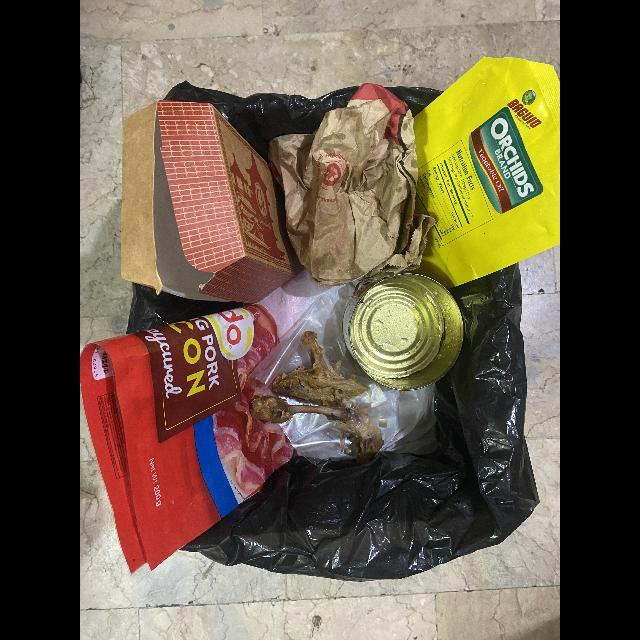aluminum: (343, 274, 464, 390)
cardboard: (121, 100, 295, 304)
food_wrapper: (80, 305, 294, 575), (413, 57, 560, 290)
left_over_food: (249, 395, 384, 464), (273, 331, 373, 407)
paper: (268, 84, 436, 287)
